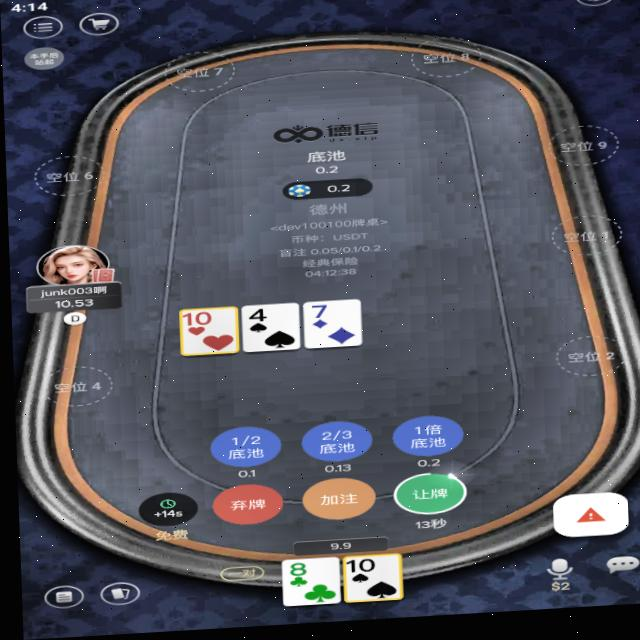10h: (179, 313, 211, 330)
10s: (340, 560, 373, 579)
4s: (243, 309, 268, 327)
7f: (302, 305, 334, 324)
8m: (280, 564, 309, 581)
